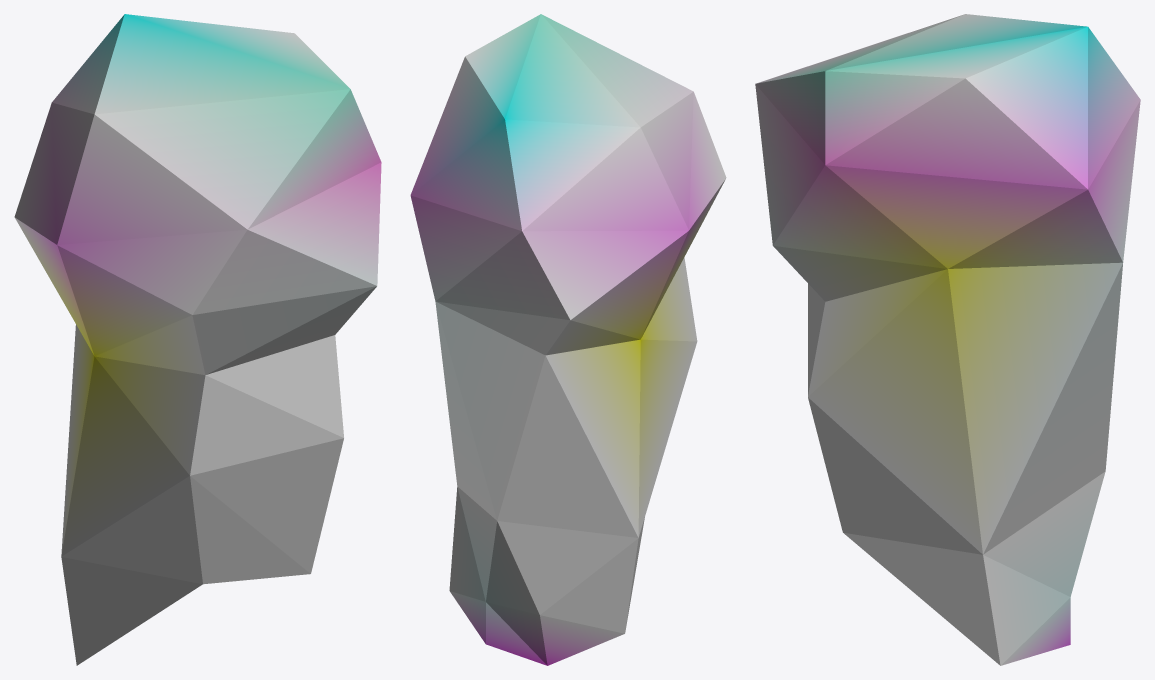
3 renders of one model, left to right at view 1: azimuth 30°, elevation 25°; view 2: azimuth 150°, elevation 25°; view 3: azimuth 270°, elevation 25°, orthographic. The views are drawn at different scales.
Parts seen in each view (by area): view 1: model_112A; view 2: model_112A; view 3: model_112A.
Boxes of the visible parts, <box> form: model_112A: <box>14,14,381,665</box>; model_112A: <box>410,14,726,665</box>; model_112A: <box>755,14,1140,665</box>.
Bounding box in the file's own units: 17 × 39 × 22.
